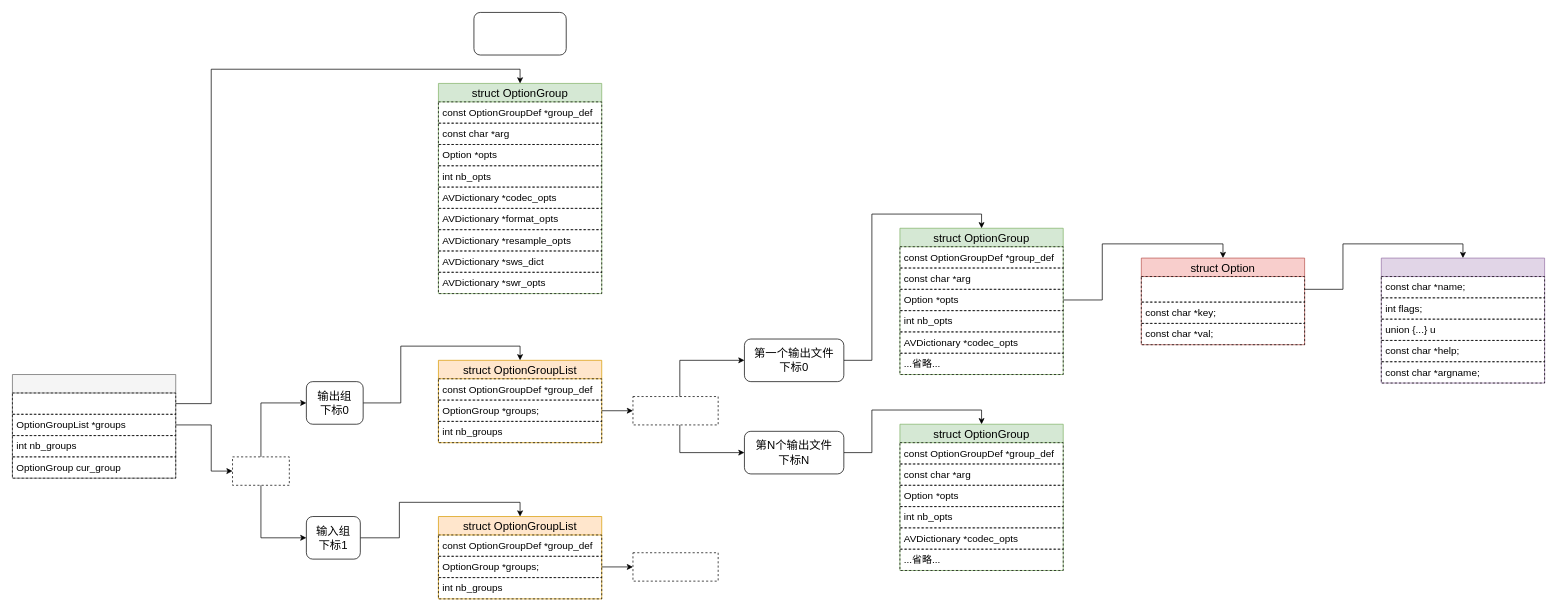
The diagram is 1557 pixels wide and 613 high, and some of its shapes have lost their labels. The box of each missing label's shape, as (x1, y1, x2, y2) in pixels:
2个组: (232, 456, 289, 485)
const OptionDef *opt;: (1141, 276, 1305, 302)
N个输出文件: (632, 396, 718, 425)
OptionGroup global_opts: (12, 392, 176, 414)
struct OptionDef: (1381, 257, 1545, 383)
struct OptionParseContext: (12, 374, 176, 478)
全局变量组: (473, 12, 566, 55)
同上: (632, 552, 718, 581)
